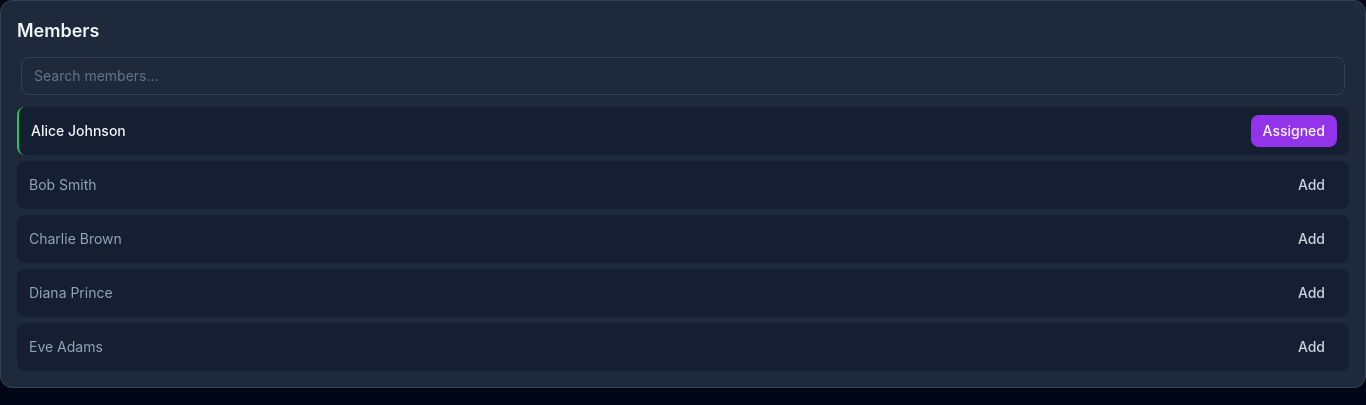
Test: AssignmentToggleList › search filtering › matches uppercase query against lowercase name
Type "ALICE" into the field with placeholder "Search members...".
click(683, 76); type("ALICE")  # box [21,57,1345,95]
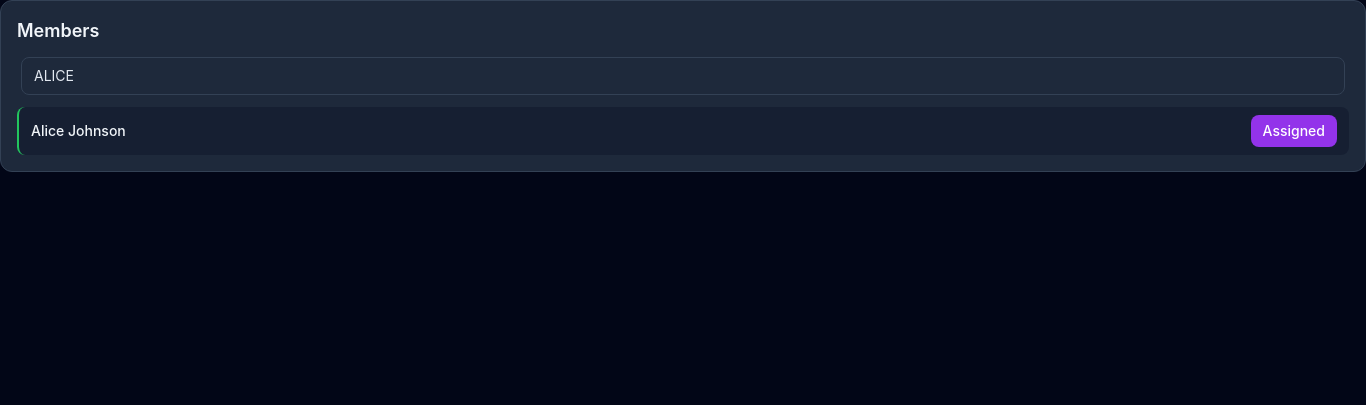
expect the text "Alice Johnson" is shown: met, box [31,121,126,141]
expect the text "Bob Smith" is gone: met
